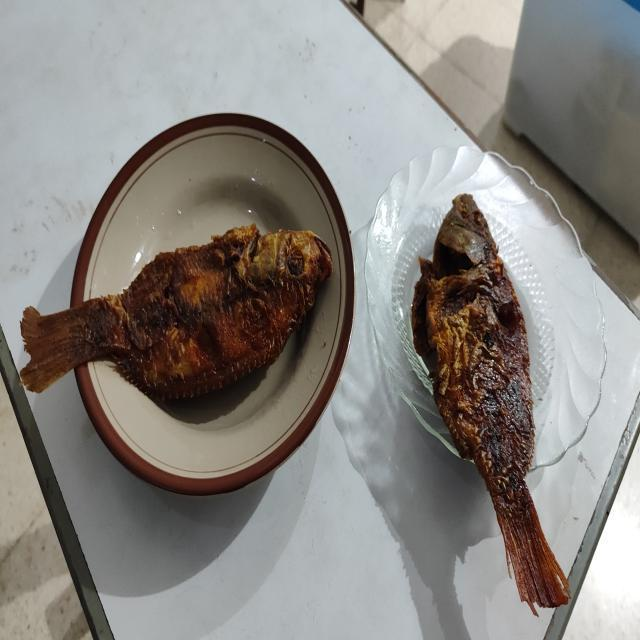ikan_mujair: (412, 194, 570, 615), (20, 224, 332, 404)
